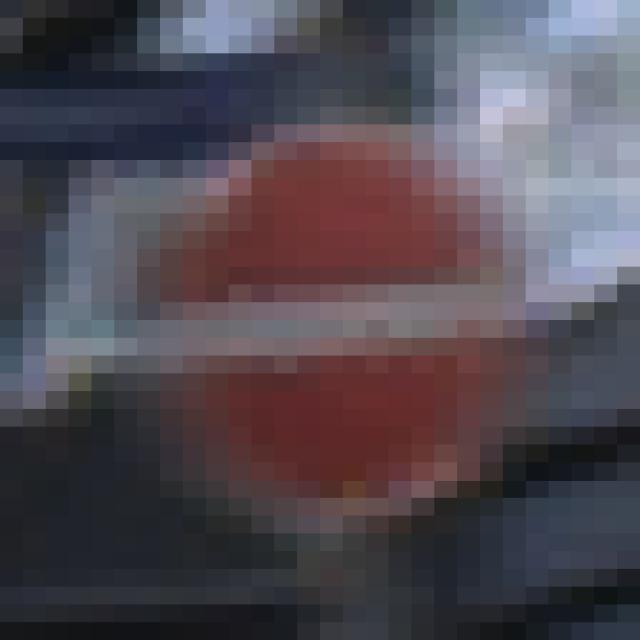No Entry: (138, 90, 527, 552)
